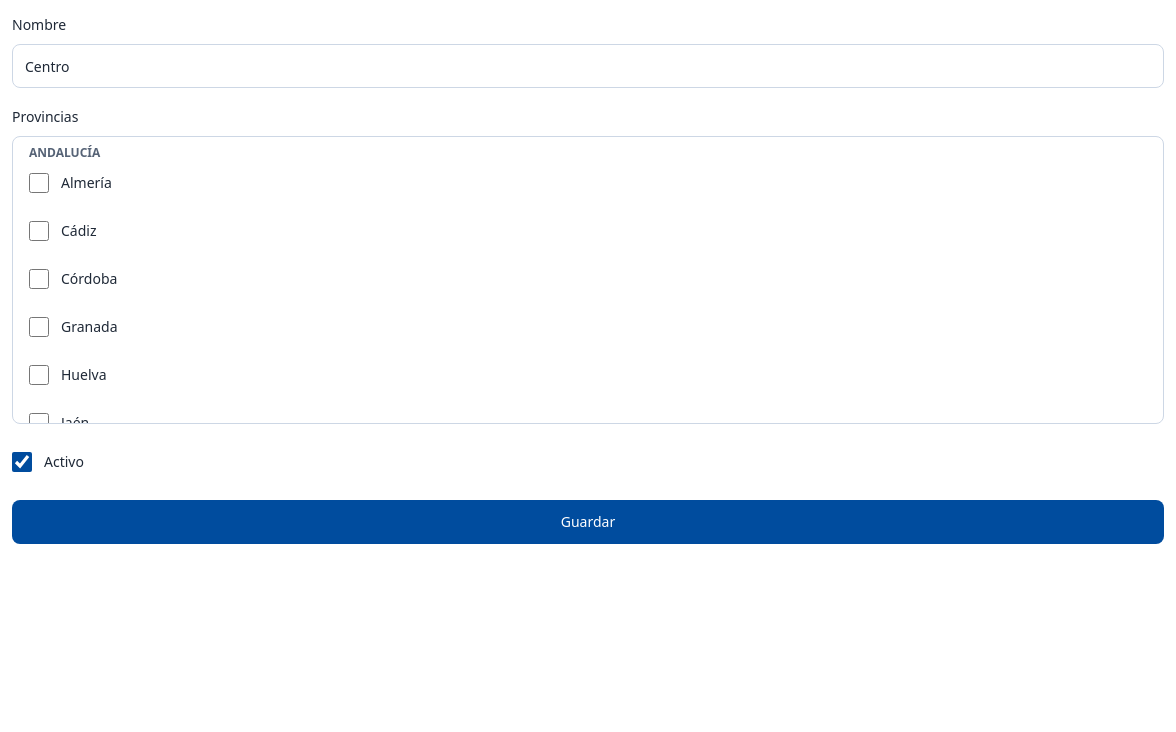
Test: TerritoryForm › edits with the version and surfaces territory_in_use on deactivation
The image size is (1176, 732).
Expected: the element "Andalucía" is shown, x1=29 y1=144 x2=118 y2=424
Click the checkbox labelled "Activo" at (22, 462), box x1=12 y1=452 x2=32 y2=472
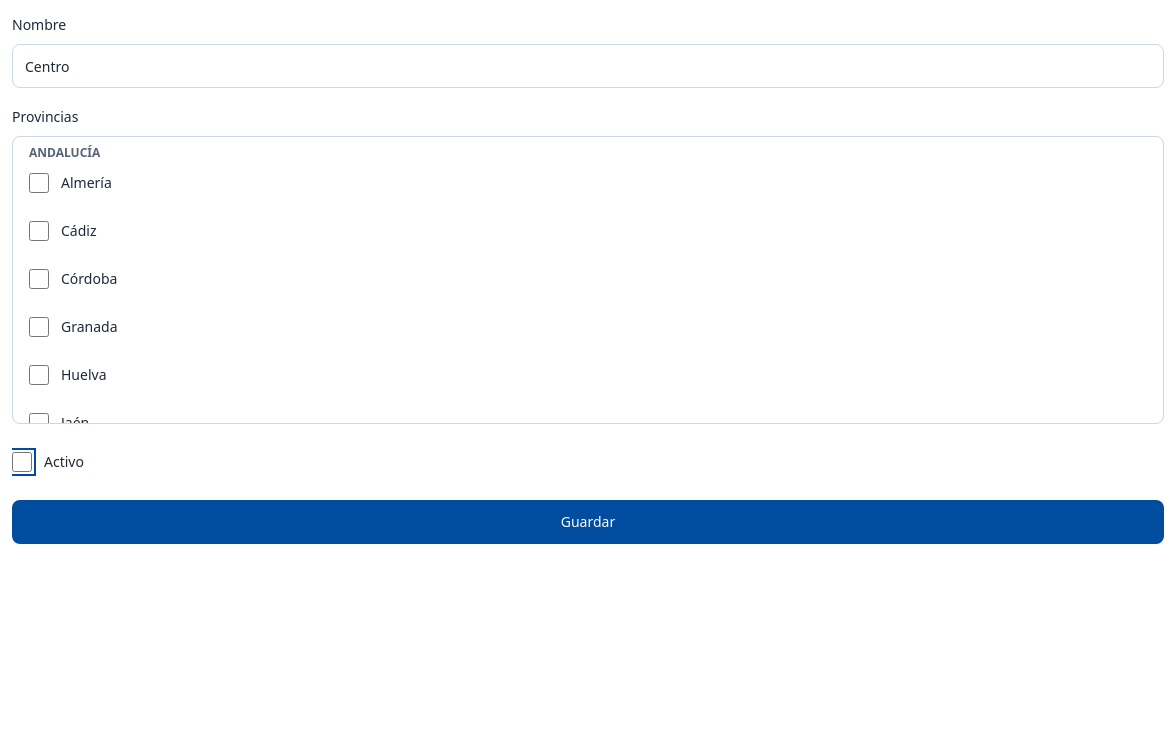
Click the button "Guardar" at (588, 522), box x1=12 y1=500 x2=1164 y2=544
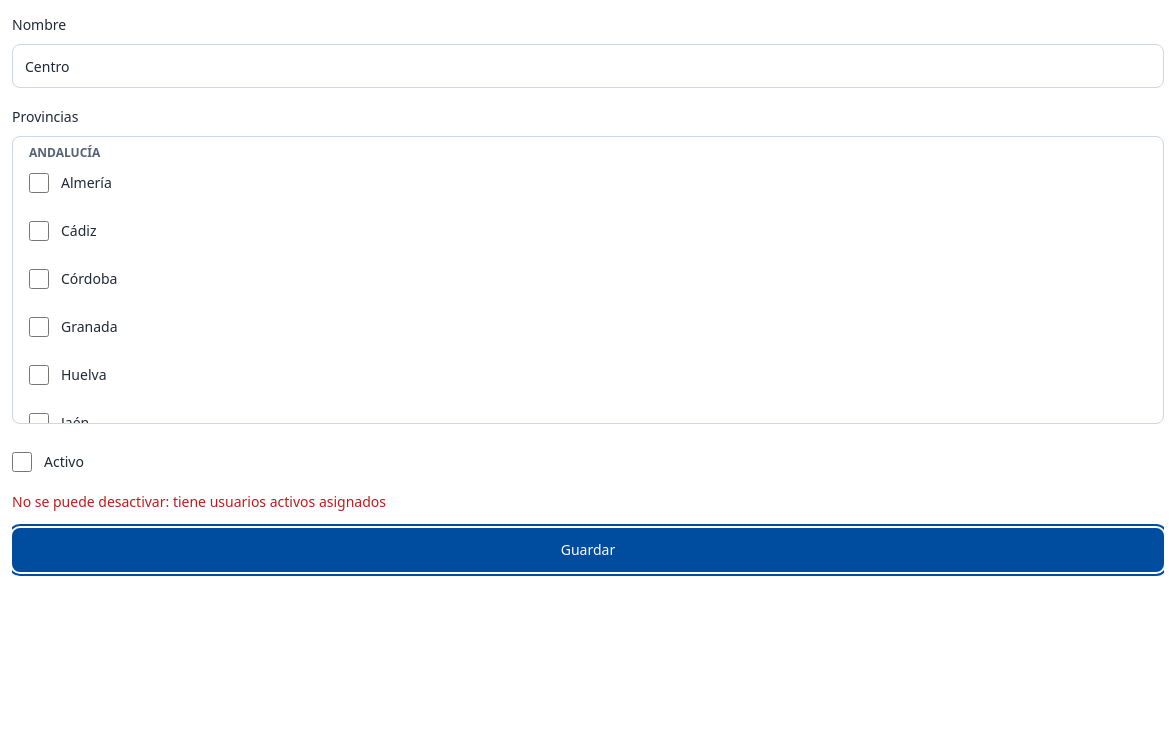
Expected: the text "No se puede desactivar: tiene usuarios activos asignados" is shown, x1=12 y1=492 x2=386 y2=511
